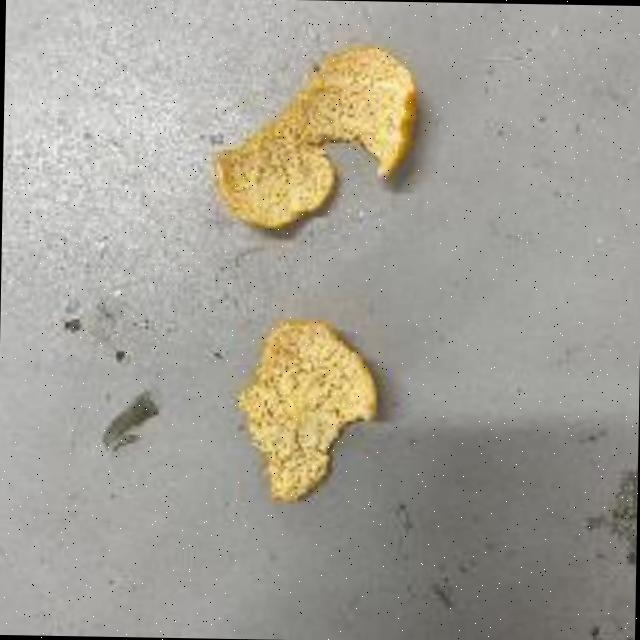orange-peel: (210, 39, 418, 232), (232, 316, 380, 506)
